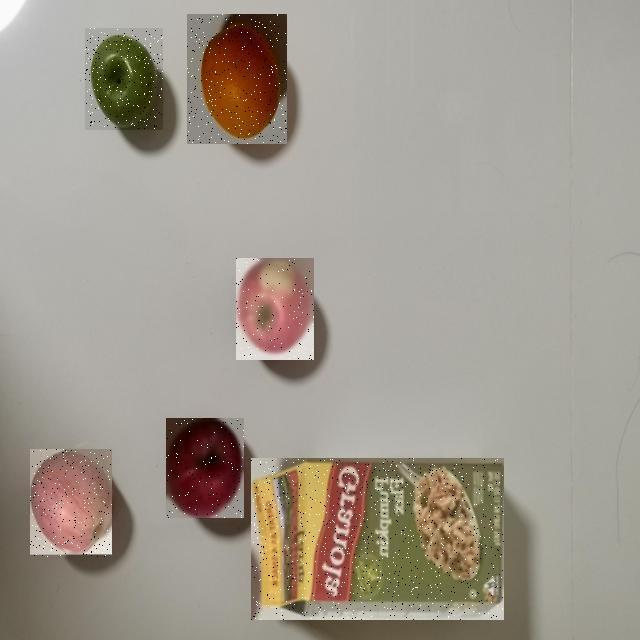Apple: (30, 450, 112, 558), (85, 28, 163, 130), (236, 258, 314, 360), (166, 418, 244, 518)
Cereal: (251, 458, 504, 620)
Orange: (187, 14, 287, 144)
